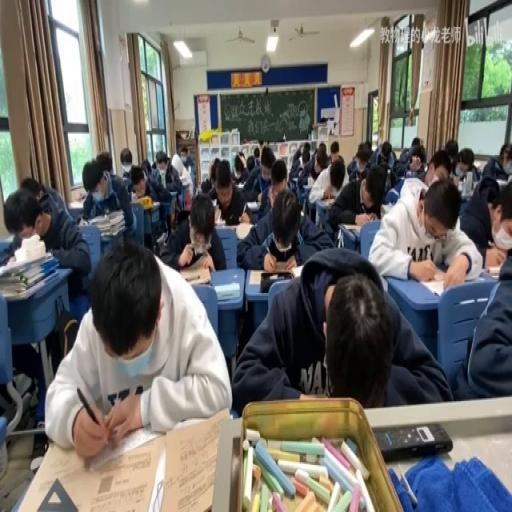calculator: (374, 422, 451, 462), (418, 272, 482, 296), (245, 267, 293, 286), (180, 267, 210, 286), (214, 282, 240, 300), (98, 220, 124, 234), (166, 188, 180, 214), (234, 222, 252, 240), (214, 220, 239, 232), (484, 264, 502, 278), (338, 222, 359, 233), (290, 264, 306, 278), (88, 213, 105, 225), (297, 179, 309, 196), (472, 158, 486, 171), (154, 232, 166, 247), (212, 205, 222, 222), (495, 176, 509, 188), (380, 202, 394, 213), (68, 199, 84, 208), (321, 196, 336, 205), (77, 214, 89, 224), (246, 201, 260, 209), (301, 198, 307, 216), (180, 174, 190, 184), (149, 199, 159, 209), (74, 192, 85, 201), (234, 181, 246, 189), (306, 176, 314, 188), (130, 192, 139, 202), (290, 174, 298, 184), (211, 196, 217, 205)
paper: (46, 235, 230, 458), (229, 248, 444, 416), (368, 173, 482, 293), (5, 175, 91, 290), (236, 182, 326, 272), (159, 192, 226, 273), (82, 152, 134, 236), (132, 158, 174, 240), (480, 178, 512, 270), (306, 149, 347, 215), (170, 146, 194, 202), (398, 138, 428, 181), (365, 138, 394, 176), (481, 144, 510, 182), (21, 175, 47, 202), (268, 171, 287, 206), (365, 178, 384, 210), (230, 152, 248, 185), (260, 146, 275, 176), (444, 139, 458, 168), (208, 156, 220, 186), (314, 149, 326, 171), (330, 141, 340, 165), (291, 146, 302, 165), (458, 160, 471, 176), (141, 158, 151, 178), (183, 188, 192, 209), (199, 178, 211, 193), (245, 154, 254, 170), (410, 136, 420, 150), (253, 146, 260, 165), (156, 155, 166, 168), (302, 145, 310, 161), (178, 148, 188, 158), (150, 159, 157, 168)
person: (184, 249, 204, 266)
